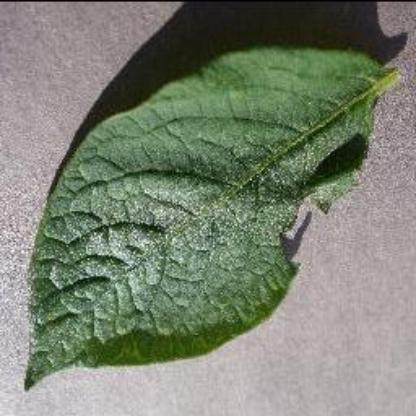Healthy-plant: (20, 40, 400, 390)
